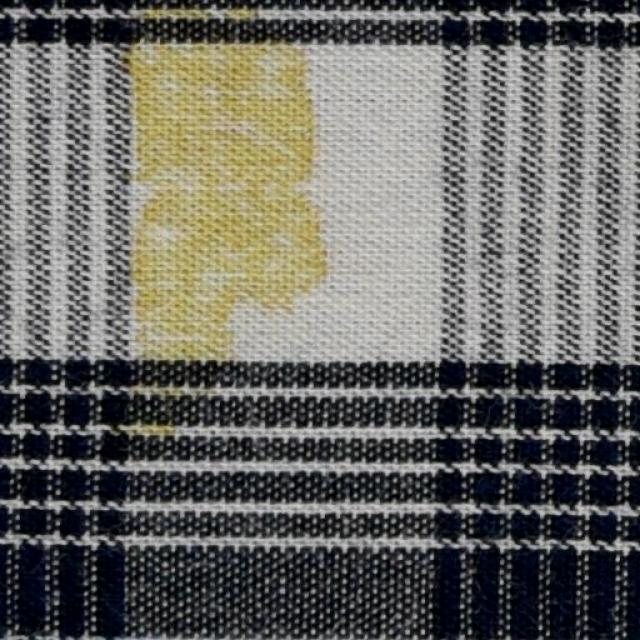Stain: (113, 1, 342, 445)
